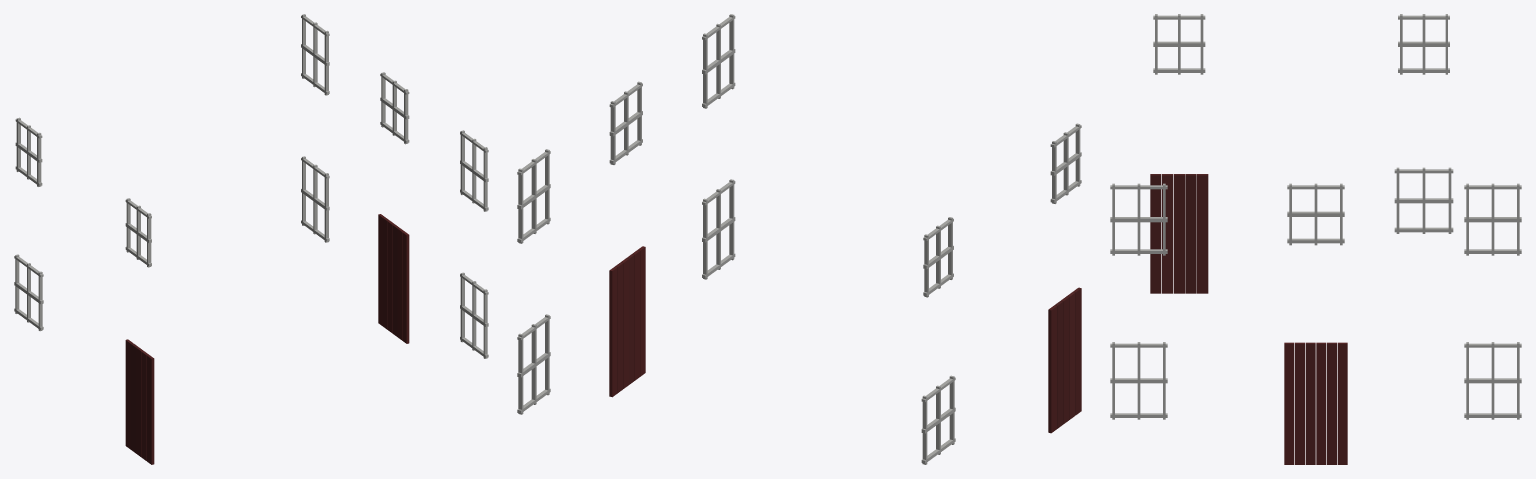
File: SM_Bld_106_Wood.glb
3 views of the same model, side by side, from view 1: azimuth 30°, elevation 25°; view 2: azimuth 150°, elevation 25°; view 3: azimuth 270°, elevation 25° (orthographic). The views are drawn at different scales.
Parts seen in each view (by area): view 1: SM_Bld_106_Wood; view 2: SM_Bld_106_Wood; view 3: SM_Bld_106_Wood.
Boxes of the visible parts, x1,y1,x2,y2 form: SM_Bld_106_Wood: (14,14,488,464); SM_Bld_106_Wood: (517,14,1081,464); SM_Bld_106_Wood: (1110,14,1521,464).
Size of the model in its own units: 6.33 by 4.75 by 6.32.
